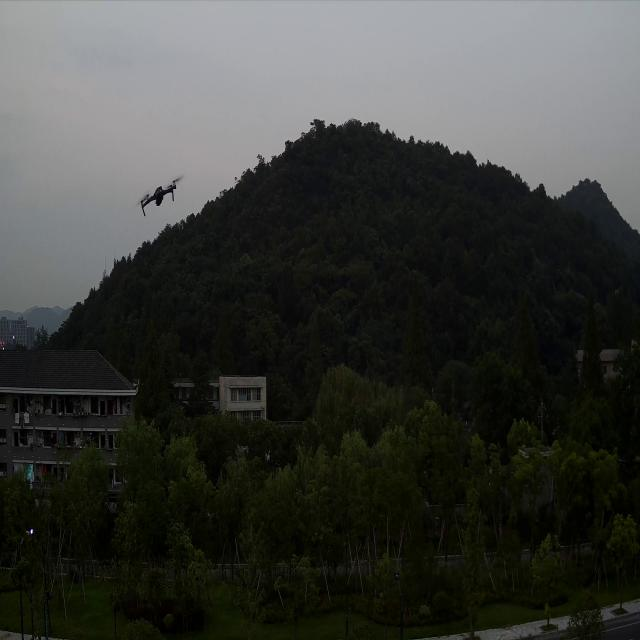UAV: (141, 182, 178, 212)
